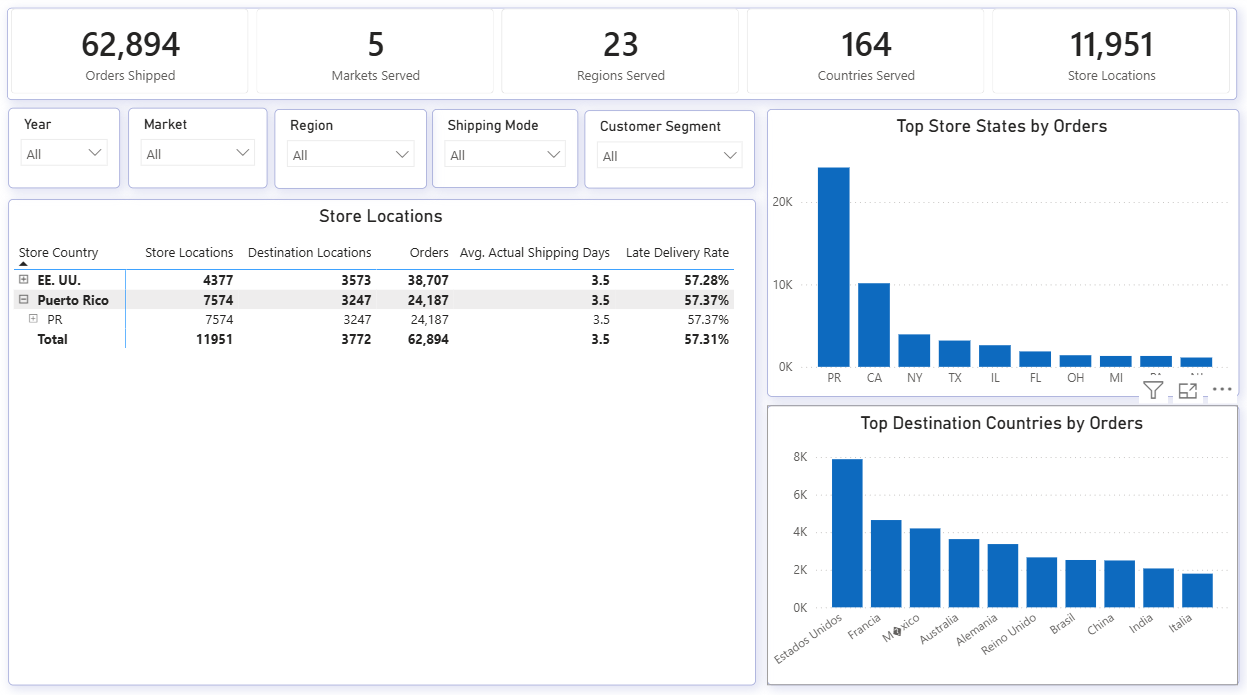

Layout of this report page (visuals, bound fields, positions):
{"tool":"powerbi","page":{"name":"Geographic & Network Insights","canvas":[1280,720],"ordinal":4},"visuals":[{"type":"cardVisual","fields":{"Data":["_Measures.Total Orders Shipped","_Measures.Markets Served","_Measures.Regions Served","_Measures.Countries Served","_Measures.Store Locations"]},"box":[10.5,13.5,1258.7,94],"z":0},{"type":"clusteredColumnChart","title":"Top Store States by Orders","fields":{"Category":["DimStoreLocation.Store State"],"Y":["_Measures.Orders Shipped"]},"box":[787.1,117.5,482.9,294.6],"z":1000},{"type":"clusteredColumnChart","title":"Top Destination Countries by Orders","fields":{"Category":["DimDestination.Order Country"],"Y":["_Measures.Orders Shipped (Display)"]},"box":[787.1,420.1,482.9,286.5],"z":2000},{"type":"pivotTable","title":"Store Locations ","fields":{"Values":["_Measures.Store Locations","_Measures.Destinations Served","_Measures.Orders Shipped","_Measures.Avg. Actual Shipping Days","_Measures.Late Delivery Rate"],"Rows":["DimStoreLocation.Store Country Hierarchy.Store Country","DimStoreLocation.Store Country Hierarchy.Store State","DimStoreLocation.Store Country Hierarchy.Store City"]},"box":[11.3,209.3,764.6,497.4],"z":3000},{"type":"slicer","fields":{"Values":["DimDate.Year"]},"box":[11,116.6,114.1,82.2],"z":4000},{"type":"slicer","fields":{"Values":["DimDestination.Market"]},"box":[133.8,116.6,142.4,82.2],"z":5000},{"type":"slicer","fields":{"Values":["DimShipping.Shipping Mode"]},"box":[445.5,117.8,149.7,81],"z":6000},{"type":"slicer","fields":{"Values":["DimCustomer.Customer Segment"]},"box":[601.3,119,174.3,79.8],"z":7000},{"type":"slicer","fields":{"Values":["DimDestination.Region"]},"box":[283.3,118,156.1,81.3],"z":8000}]}

Visuals, with their boxes in screenshot pixels (x1, y1, x2, y2), scaled from the page's 1280x720 canvas onto the 1247x695 screenshot:
cardVisual - _Measures.Total Orders Shipped x _Measures.Markets Served: 10,13,1236,104
"Top Store States by Orders" clusteredColumnChart: 767,113,1237,398
"Top Destination Countries by Orders" clusteredColumnChart: 767,406,1237,682
"Store Locations " pivotTable: 11,202,756,682
slicer - DimDate.Year: 11,113,122,192
slicer - DimDestination.Market: 130,113,269,192
slicer - DimShipping.Shipping Mode: 434,114,580,192
slicer - DimCustomer.Customer Segment: 586,115,756,192
slicer - DimDestination.Region: 276,114,428,192
